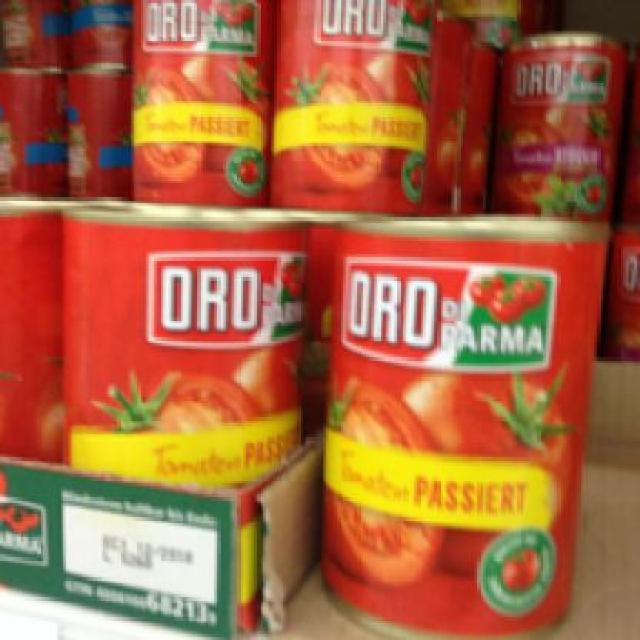Tomato Sauce: (317, 212, 612, 634), (53, 203, 310, 492), (263, 0, 426, 209), (128, 0, 266, 209), (483, 28, 620, 215)
